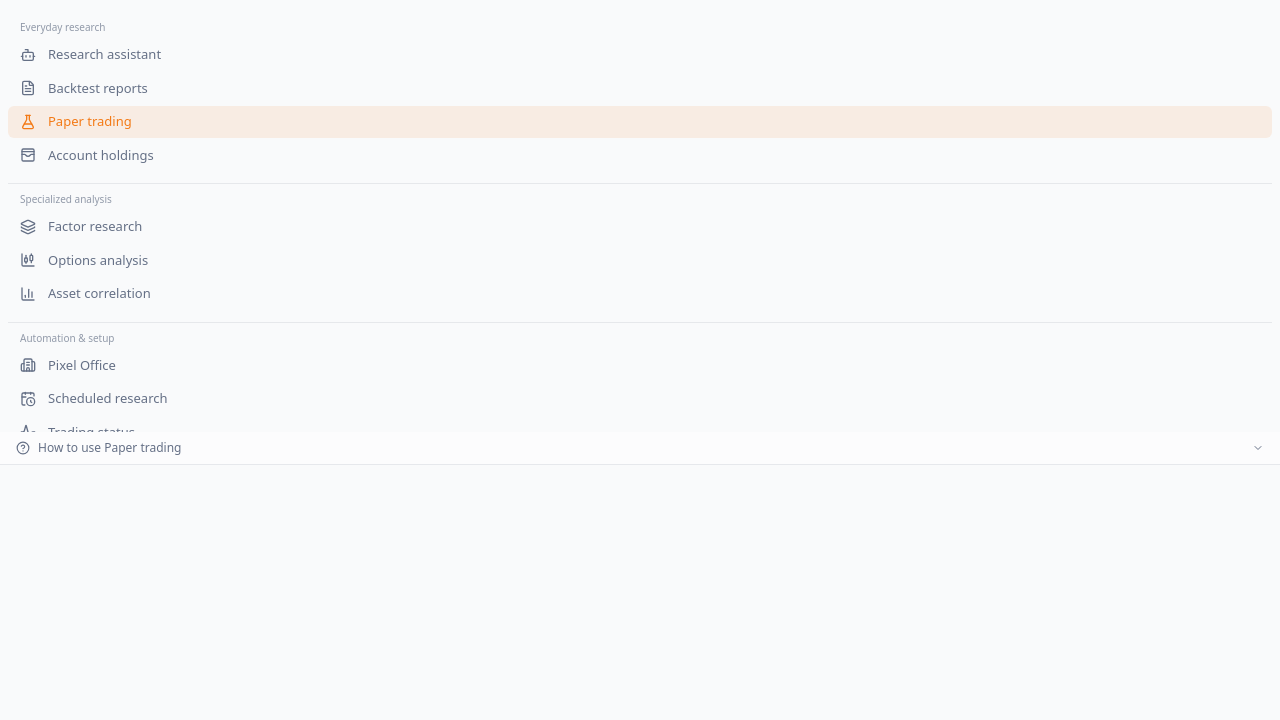
Test: links paper accounts and explains completed-session simulation
What coordinates should you click on to do the following:
click the heading "How to use Paper trading"
I would click on:
 (110, 448)
Its box is [16, 440, 1264, 456].
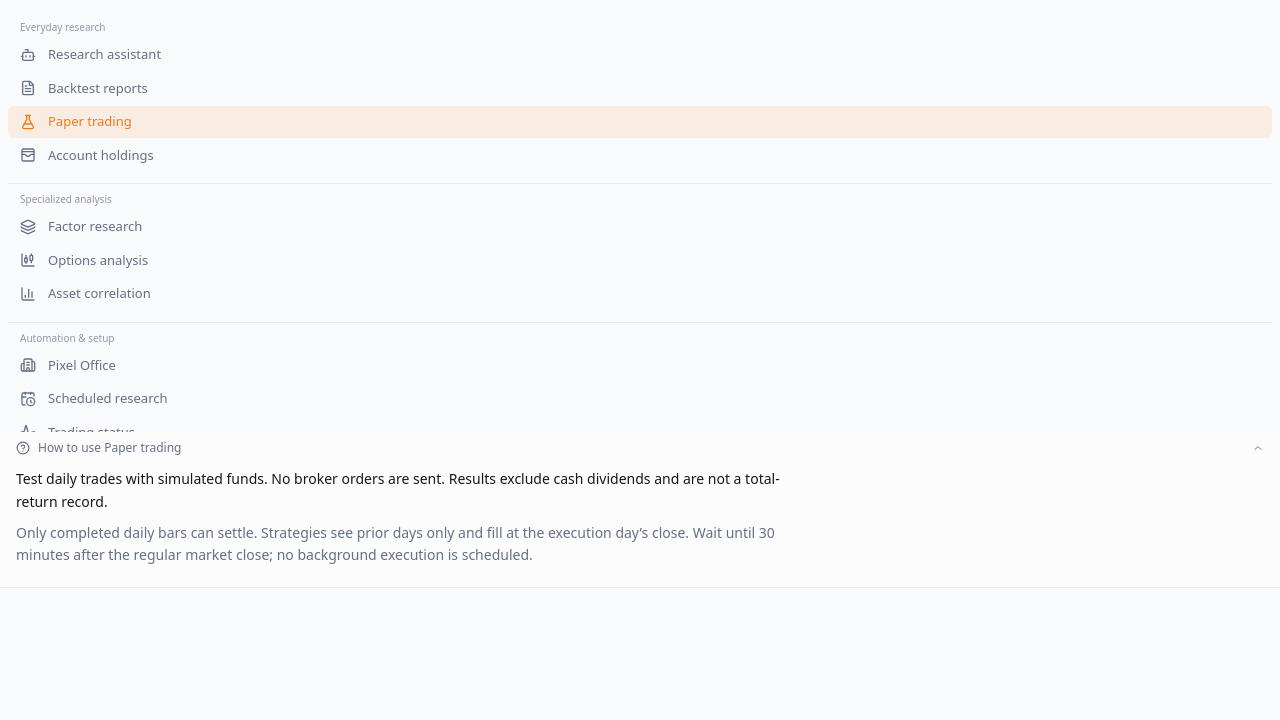
Now the text "No broker orders are sent" is shown, box [16, 469, 780, 511]
Now the text "Only completed daily bars can settle" is shown, box [16, 522, 775, 564]
